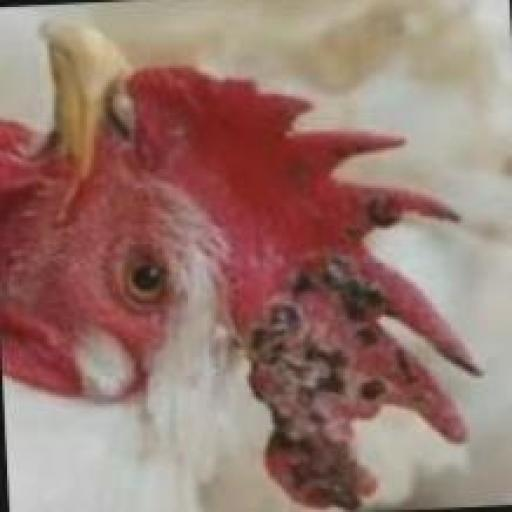disease: (239, 181, 458, 507)
